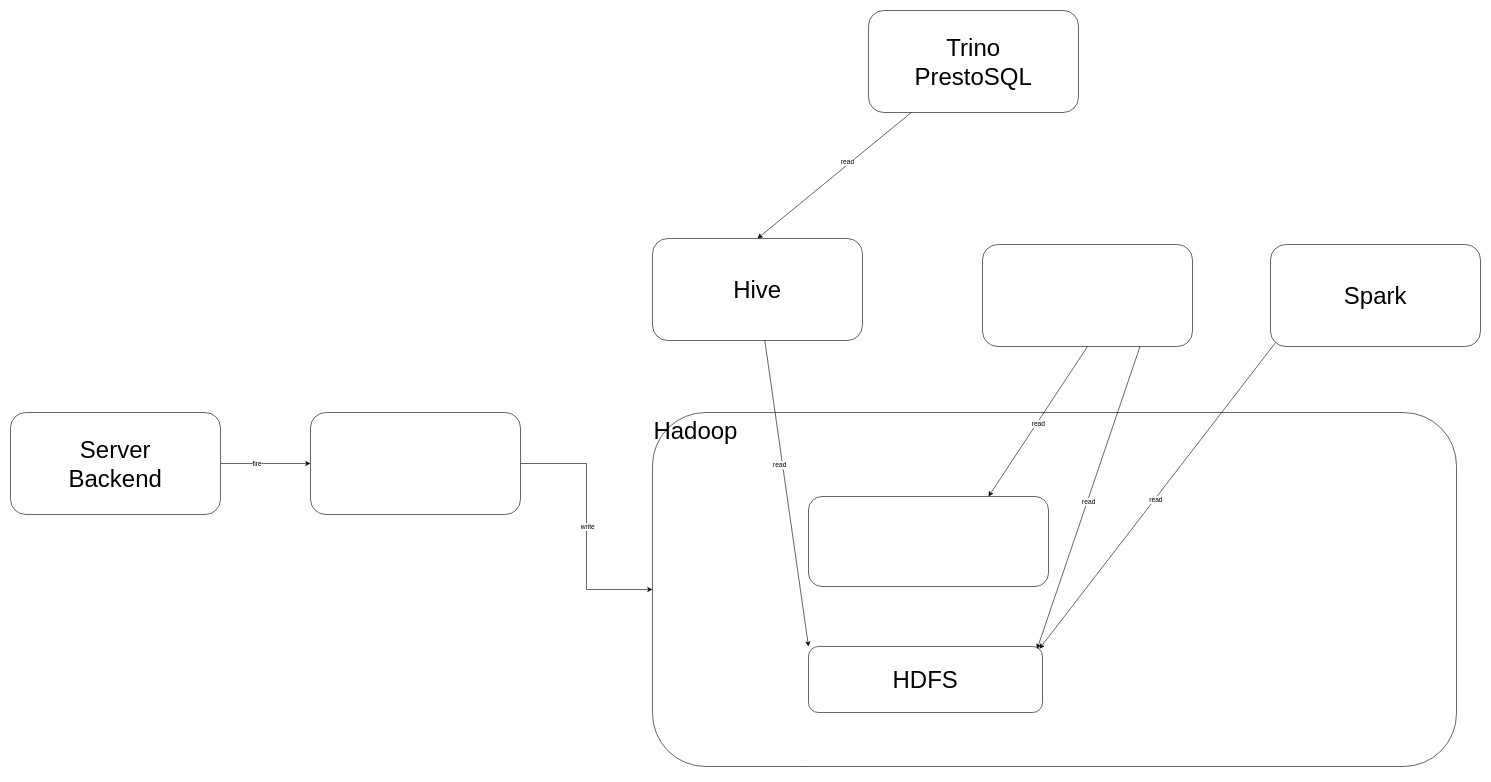
The diagram is 1491 pixels wide and 782 high, and some of its shapes have lost their labels. The centre of each missing label's shape, as x and y in pixels:
Kafka: the point at 415,463
Kylin: the point at 1087,295
MapReduce: the point at 928,541
